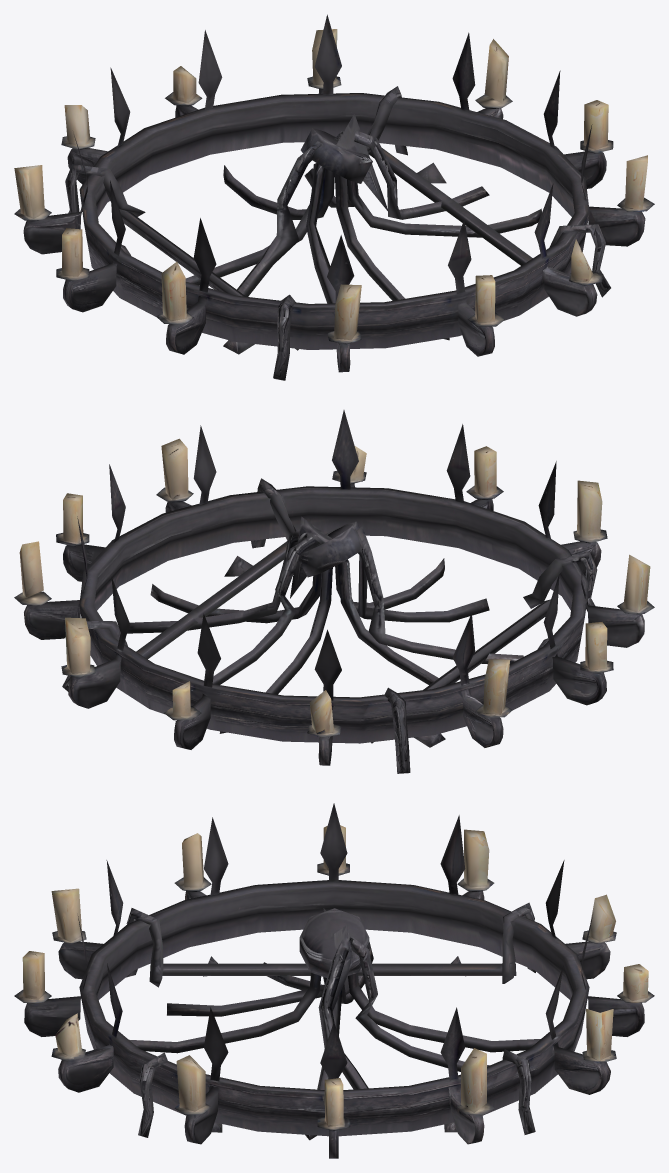
File: lampadario.glb
3 views of the same model, one above another, from view 1: azimuth 30°, elevation 25°; view 2: azimuth 150°, elevation 25°; view 3: azimuth 270°, elevation 25° (orthographic).
Visible parts, largest first — view 1: lampadario; view 2: lampadario; view 3: lampadario.
Boxes of the visible parts, <box> form: lampadario: <box>14,14,654,380</box>; lampadario: <box>14,410,654,773</box>; lampadario: <box>14,803,654,1158</box>.
Size of the model in its own units: 0.9995 by 0.2437 by 0.9995.
1 material, 1 textured.
